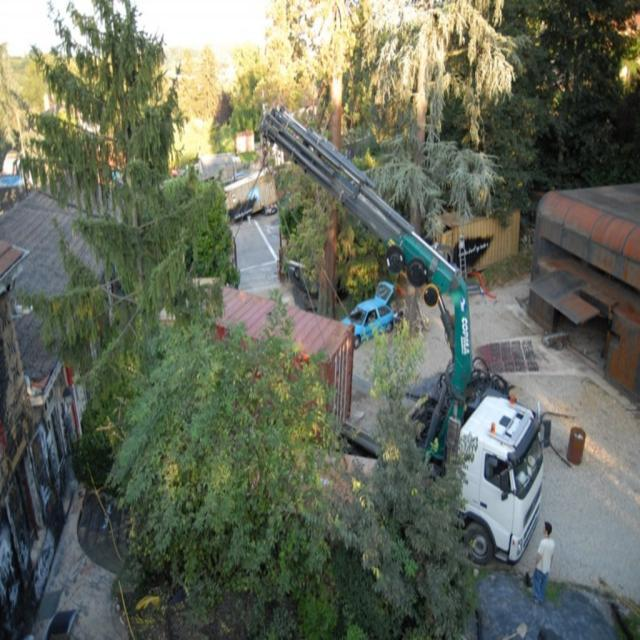bicycle: (161, 100, 558, 566)
